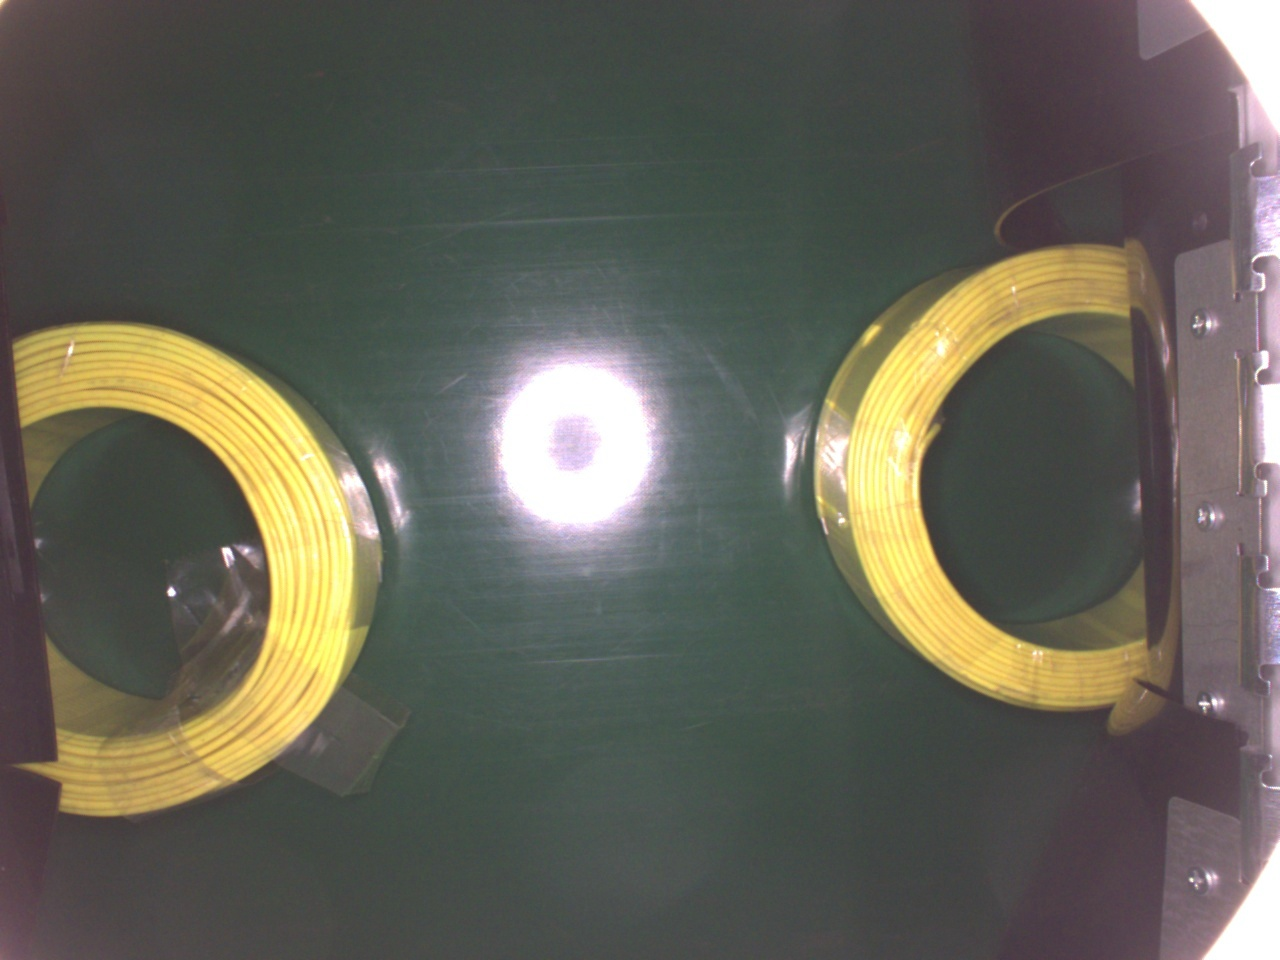yellow: (11, 316, 383, 819), (809, 240, 1148, 718)
